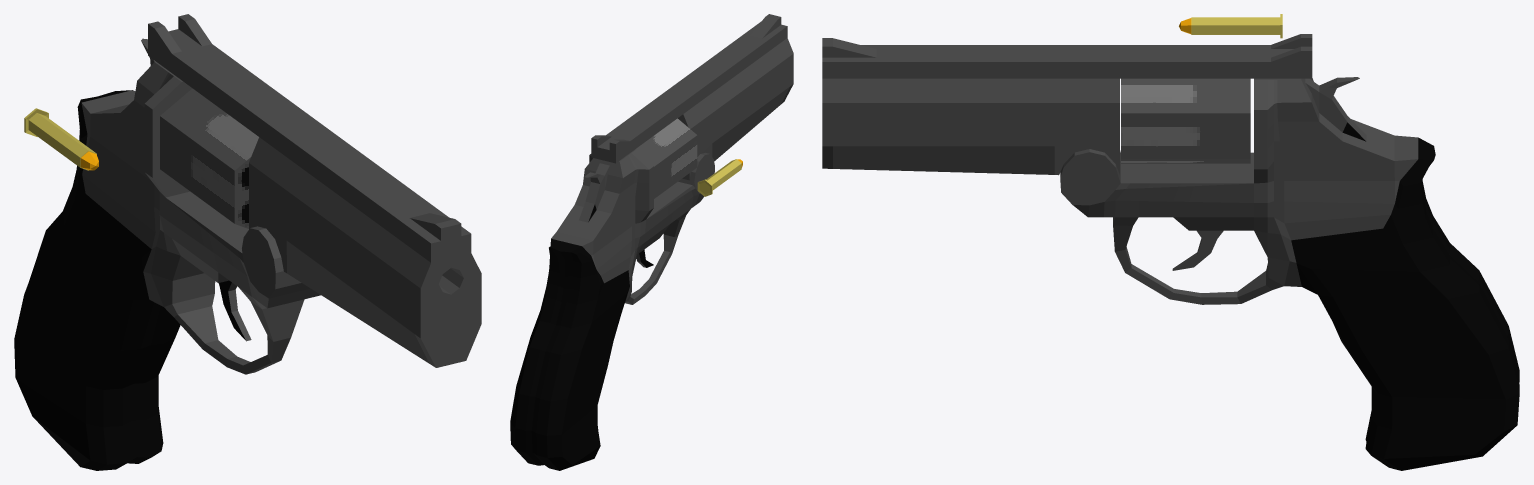
3 views of the same model, side by side, from view 1: azimuth 30°, elevation 25°; view 2: azimuth 150°, elevation 25°; view 3: azimuth 270°, elevation 25° (orthographic). The views are drawn at different scales.
Parts seen in each view (by area): view 1: bottomPart, topPart, cylinder, casing, trigger; view 2: bottomPart, topPart, cylinder, hammer, casing; view 3: bottomPart, topPart, cylinder, casing, hammer, trigger.
Boxes of the visible parts, <box> form: bottomPart: <box>14,62,320,470</box>; topPart: <box>148,14,481,367</box>; cylinder: <box>160,88,258,228</box>; casing: <box>24,108,96,170</box>; trigger: <box>218,280,251,341</box>; bottomPart: <box>510,149,714,470</box>; topPart: <box>591,14,793,180</box>; cylinder: <box>635,118,697,198</box>; hammer: <box>579,163,609,222</box>; casing: <box>697,159,741,196</box>; bottomPart: <box>1060,78,1519,470</box>; topPart: <box>822,34,1312,175</box>; cylinder: <box>1121,78,1250,163</box>; casing: <box>1191,14,1282,38</box>; hammer: <box>1305,77,1366,141</box>; trigger: <box>1172,230,1223,270</box>.
Bounding box in the file's own units: 0.0701 × 0.1519 × 0.2321.
5 materials, 1 textured.
